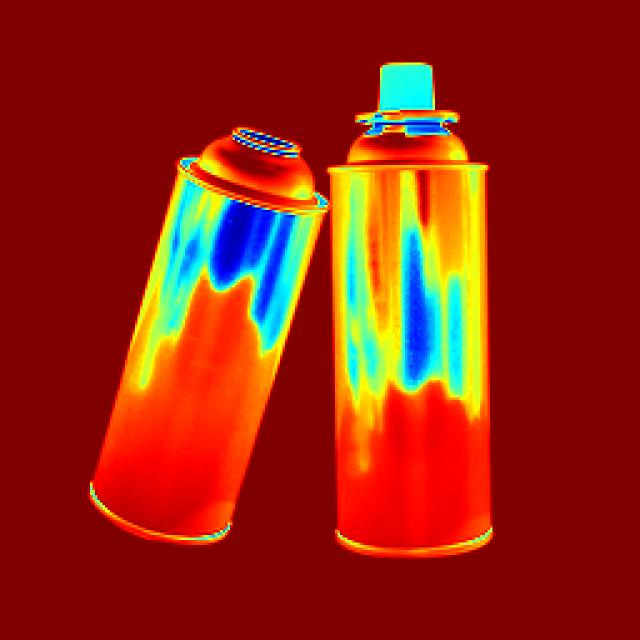Aerosol Cans: (82, 87, 323, 597), (330, 46, 500, 568)
